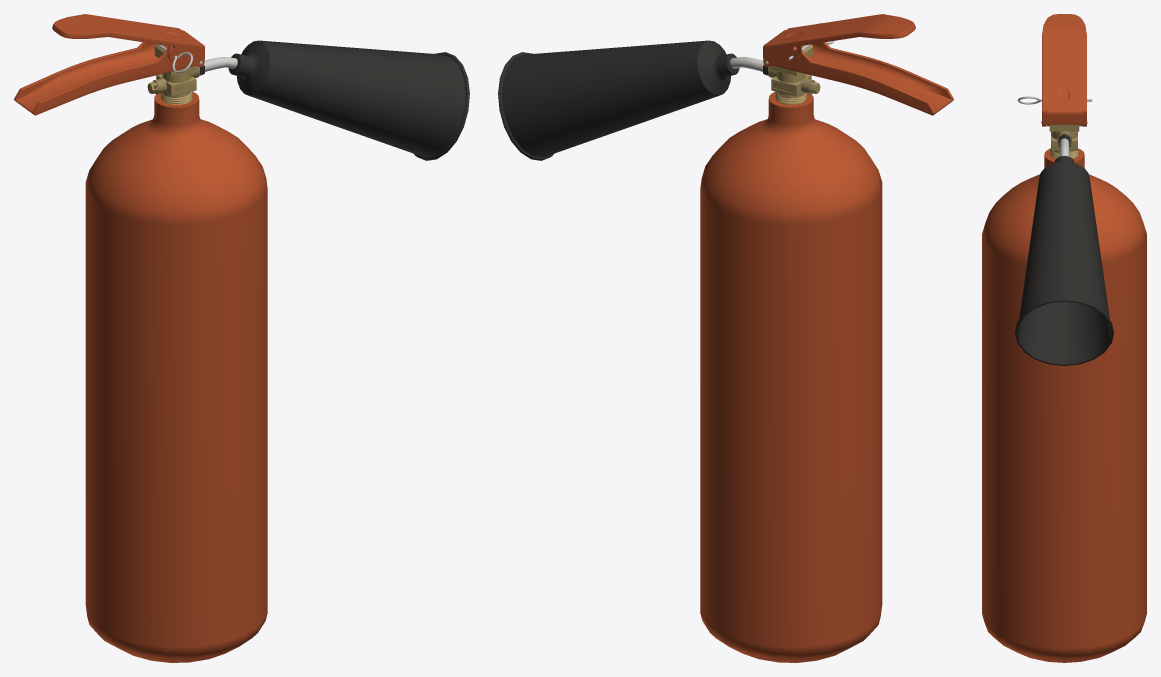
Rendered from FireExtinguisher.fbx.
3 renders of one model, left to right at view 1: azimuth 30°, elevation 25°; view 2: azimuth 150°, elevation 25°; view 3: azimuth 270°, elevation 25°, orthographic. The views are drawn at different scales.
Visible parts, largest first — view 1: pasted__pCylinder1, pasted__pCylinder9, polySurface15, polySurface19; view 2: pasted__pCylinder1, pasted__pCylinder9, polySurface15, polySurface19; view 3: pasted__pCylinder1, pasted__pCylinder9, polySurface19.
Boxes of the visible parts, <box> form: pasted__pCylinder1: <box>85,92,267,662</box>; pasted__pCylinder9: <box>228,40,469,160</box>; polySurface15: <box>14,42,194,115</box>; polySurface19: <box>52,14,204,66</box>; pasted__pCylinder1: <box>700,92,882,662</box>; pasted__pCylinder9: <box>498,40,739,160</box>; polySurface15: <box>773,42,953,115</box>; polySurface19: <box>763,14,915,66</box>; pasted__pCylinder1: <box>982,148,1146,662</box>; pasted__pCylinder9: <box>1014,156,1114,365</box>; polySurface19: <box>1042,14,1086,126</box>.
Bounding box in the file's own units: 5.44 × 7.72 × 2.
